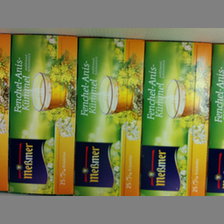tea: (139, 41, 213, 195), (10, 33, 78, 195), (77, 37, 145, 196)
